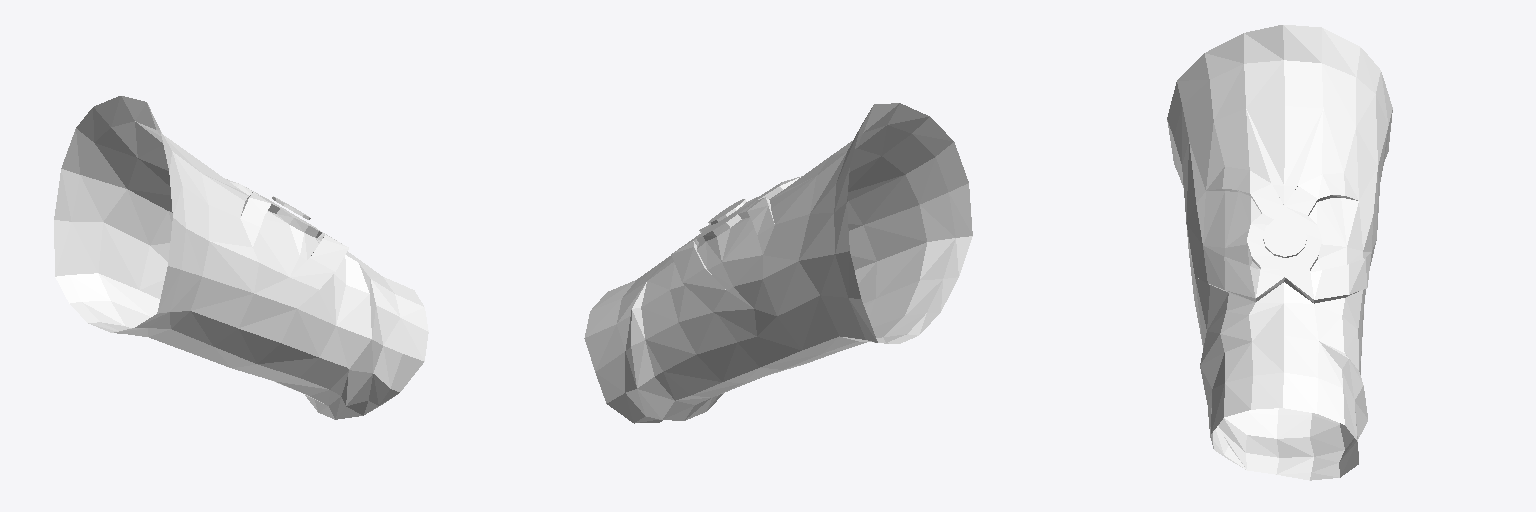
The model's file is Blade_HombroIzq.obj.
3 views of the same model, side by side, from view 1: azimuth 30°, elevation 25°; view 2: azimuth 150°, elevation 25°; view 3: azimuth 270°, elevation 25° (orthographic).
Parts seen in each view (by area): view 1: Hombro_Izq; view 2: Hombro_Izq; view 3: Hombro_Izq.
Boxes of the visible parts, x1=… form: Hombro_Izq: x1=54, y1=96, x2=428, y2=419; Hombro_Izq: x1=584, y1=103, x2=972, y2=423; Hombro_Izq: x1=1167, y1=25, x2=1392, y2=480.
Size of the model in its own units: 1.1 by 1.18 by 0.673.